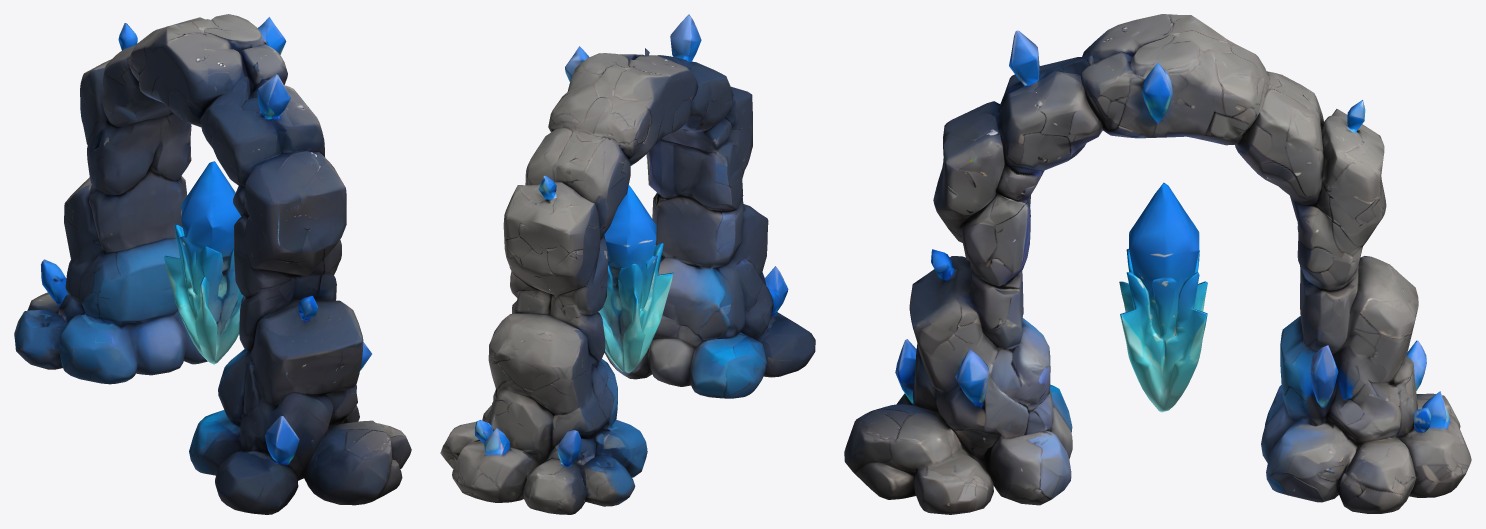
The model's file is Portal.fbx.
3 renders of one model, left to right at view 1: azimuth 30°, elevation 25°; view 2: azimuth 150°, elevation 25°; view 3: azimuth 270°, elevation 25°, orthographic. The views are drawn at different scales.
Visible parts, largest first — view 1: meshes[0]; view 2: meshes[0]; view 3: meshes[0].
Part boxes in pixels (x1=…): meshes[0]: x1=14, y1=14, x2=411, y2=514; meshes[0]: x1=440, y1=14, x2=815, y2=514; meshes[0]: x1=844, y1=14, x2=1471, y2=514.
Bounding box in the file's own units: 733 × 1365 × 1772.
Materials: 1 (1 with a texture image).
